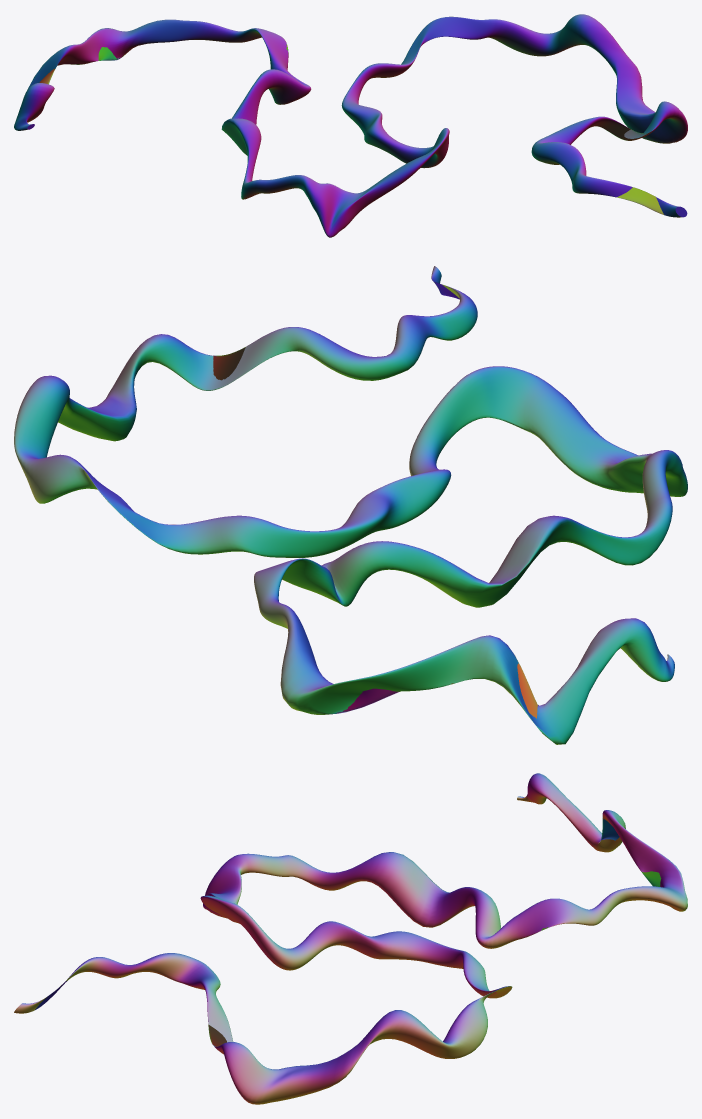
File: Mesh_WaterBaseFX.FBX
3 renders of one model, top to bottom at view 1: azimuth 30°, elevation 25°; view 2: azimuth 150°, elevation 25°; view 3: azimuth 270°, elevation 25°, orthographic. The views are drawn at different scales.
Parts seen in each view (by area): view 1: Line001; view 2: Line001; view 3: Line001.
Boxes of the visible parts, left/top/right/bottom form: Line001: left=14, top=14, right=687, bottom=237; Line001: left=14, top=266, right=687, bottom=744; Line001: left=14, top=773, right=687, bottom=1104.
Size of the model in its own units: 412 by 61.36 by 440.
